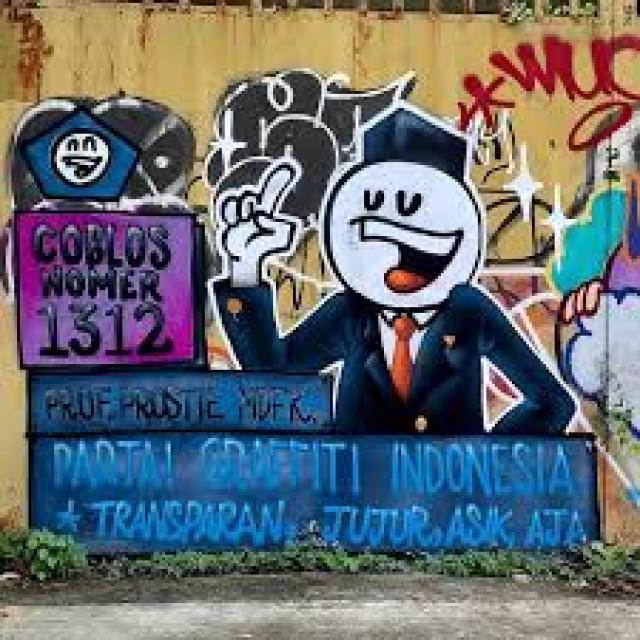-: (14, 71, 601, 544), (552, 168, 640, 437), (463, 32, 640, 146)
